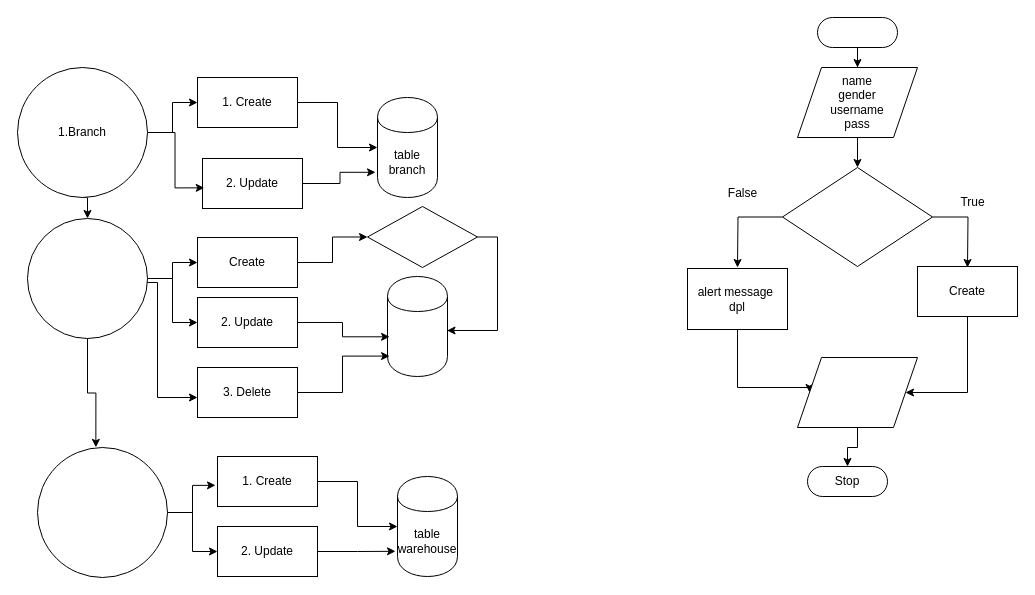
Some shapes in this 1035 by 595 pixel diagram are drawn without their labels. The shapes that lost their labels are listed below. From the top down, each one's centre as x and y in pixels, then its label:
At point (857, 32): "Start".
At point (857, 216): "old_username != new_username".
At point (422, 237): "username email phone".
At point (87, 278): "2.User".
At point (417, 326): "table user".
At point (857, 392): "User record".
At point (102, 512): "3.Warehouse".
